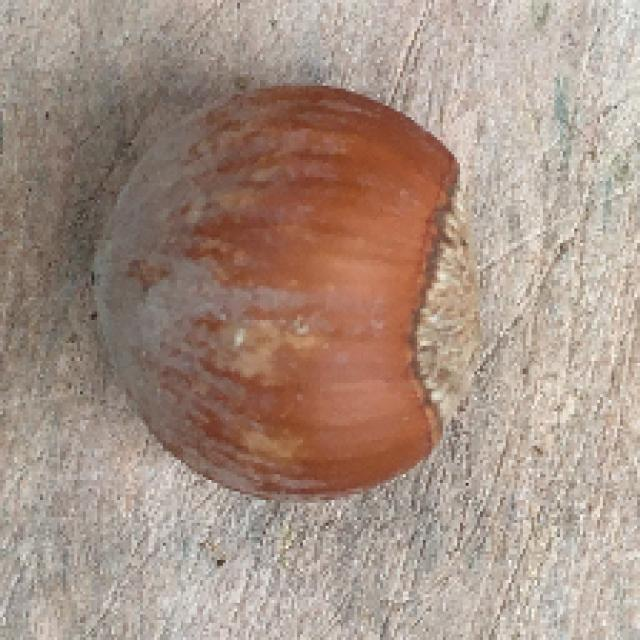qualityHazelnut: (86, 80, 486, 507)
